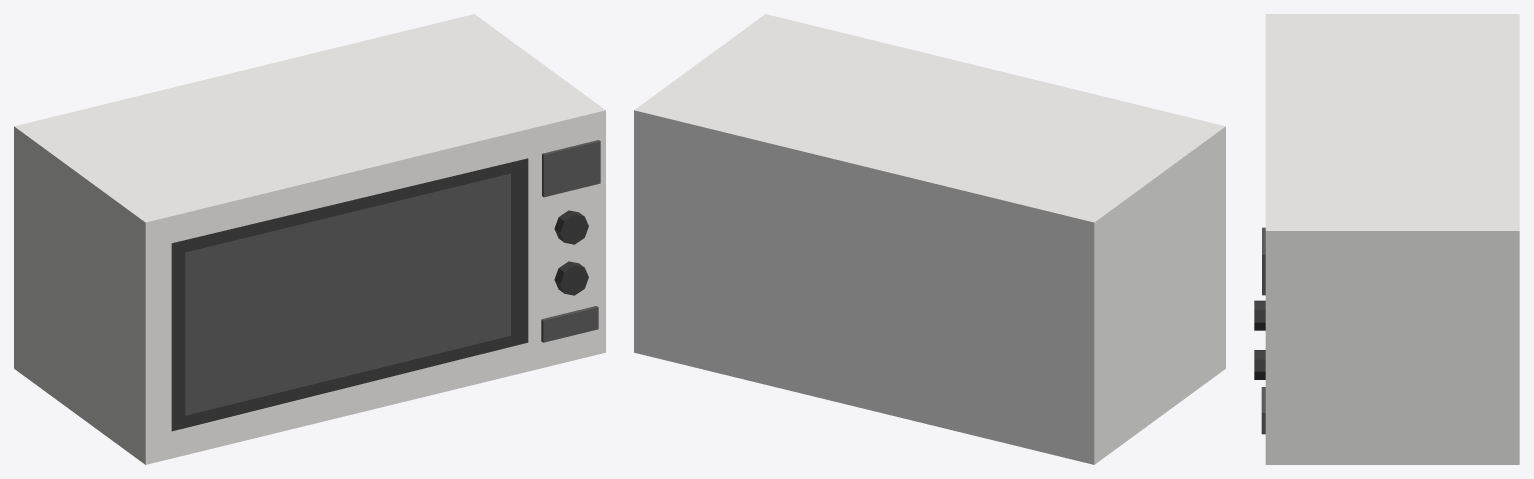
Rendered from Microwave1.fbx.
The picture shows the model from 3 angles, left to right: view 1: azimuth 30°, elevation 25°; view 2: azimuth 150°, elevation 25°; view 3: azimuth 270°, elevation 25°; orthographic projection. The views are drawn at different scales.
Visible parts, largest first — view 1: Microwave1; view 2: Microwave1; view 3: Microwave1.
Part boxes in pixels (<box>): Microwave1: <box>14,14,605,464</box>; Microwave1: <box>634,14,1225,464</box>; Microwave1: <box>1254,14,1519,464</box>.
Size of the model in its own units: 71.13 by 36.8 by 35.79.
